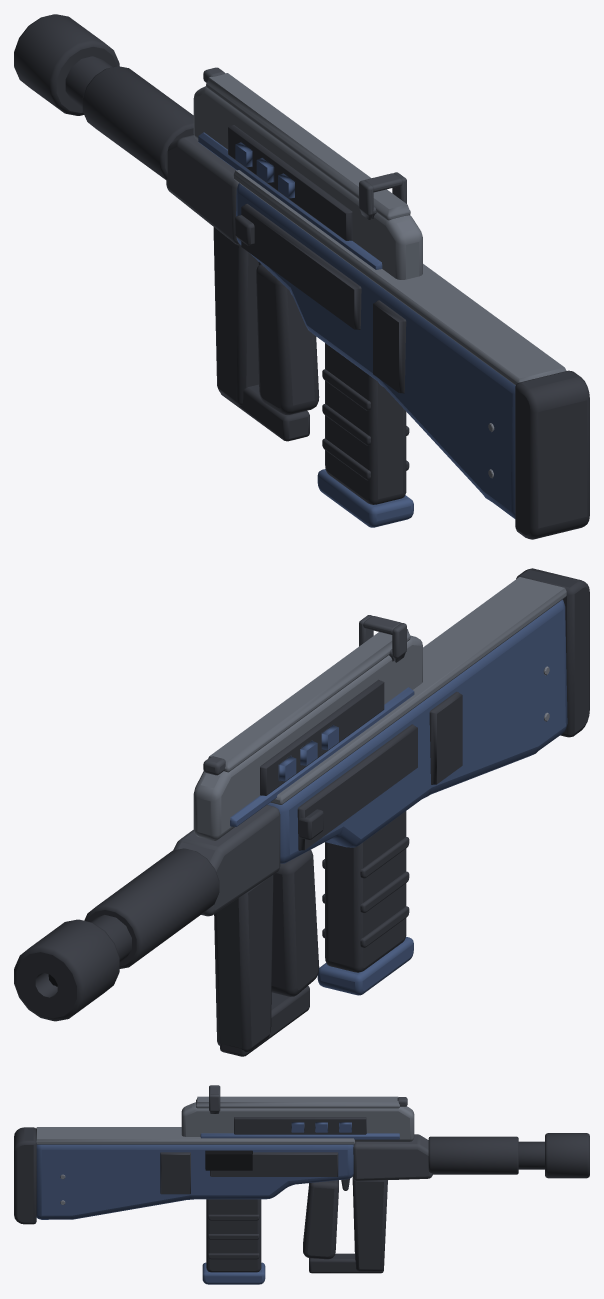
File: w_burst.glb
3 views of the same model, one above another, from view 1: azimuth 30°, elevation 25°; view 2: azimuth 150°, elevation 25°; view 3: azimuth 270°, elevation 25° (orthographic). The views are drawn at different scales.
Visible parts, largest first — view 1: body_wzA, barrel_wzB, handle_wzN, stock_wzB, mag_wzB, deck_wzA, loop_wzB, body_wzN, grip_wzB, fore_wzB, handle_wzN.001, handle_wzA (+2 smaller); view 2: body_wzA, barrel_wzB, handle_wzN, mag_wzB, loop_wzB, deck_wzA, body_wzN, grip_wzB, fore_wzB, stock_wzB, handle_wzN.001, handle_wzA (+2 smaller); view 3: body_wzA, handle_wzN, barrel_wzB, mag_wzB, loop_wzB, deck_wzA, body_wzN, fore_wzB, grip_wzB, stock_wzB, handle_wzN.001, handle_wzA (+3 smaller).
Part boxes in pixels (x1,y1,x2,y2): body_wzA: (236, 183, 515, 518); barrel_wzB: (14, 14, 193, 179); handle_wzN: (193, 73, 422, 279); stock_wzB: (515, 370, 589, 539); mag_wzB: (322, 343, 409, 504); deck_wzA: (233, 170, 566, 385); loop_wzB: (213, 227, 309, 441); body_wzN: (241, 203, 406, 393); grip_wzB: (256, 262, 319, 414); fore_wzB: (166, 135, 239, 244); handle_wzN.001: (228, 125, 352, 240); handle_wzA: (198, 132, 382, 269); body_wzA: (267, 599, 567, 863); barrel_wzB: (14, 848, 219, 1021); handle_wzN: (193, 629, 422, 840); mag_wzB: (322, 811, 409, 972); loop_wzB: (214, 875, 309, 1056); deck_wzA: (270, 577, 566, 804); body_wzN: (297, 691, 462, 850); grip_wzB: (271, 850, 319, 996); fore_wzB: (173, 805, 280, 916); stock_wzB: (516, 568, 589, 737); handle_wzN.001: (260, 679, 384, 795); handle_wzA: (230, 687, 414, 826); body_wzA: (36, 1144, 353, 1219); handle_wzN: (181, 1096, 414, 1141); barrel_wzB: (428, 1133, 589, 1178); mag_wzB: (206, 1199, 261, 1272); loop_wzB: (309, 1178, 387, 1273); deck_wzA: (36, 1127, 354, 1144); body_wzN: (160, 1152, 338, 1194); fore_wzB: (352, 1134, 432, 1180); grip_wzB: (303, 1178, 349, 1259); stock_wzB: (14, 1127, 36, 1224); handle_wzN.001: (234, 1117, 366, 1134); handle_wzA: (200, 1122, 399, 1139).
Size of the model in its own units: 0.1033 by 0.4398 by 1.21.
